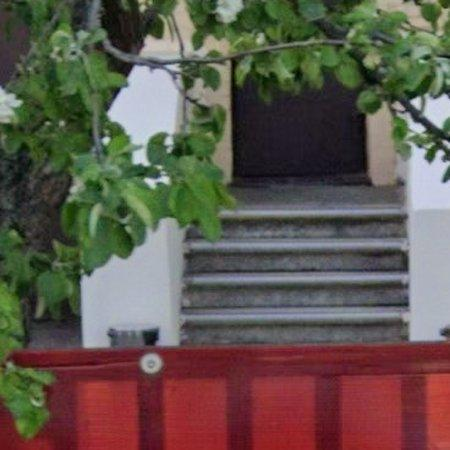stairs: (181, 185, 410, 346)
